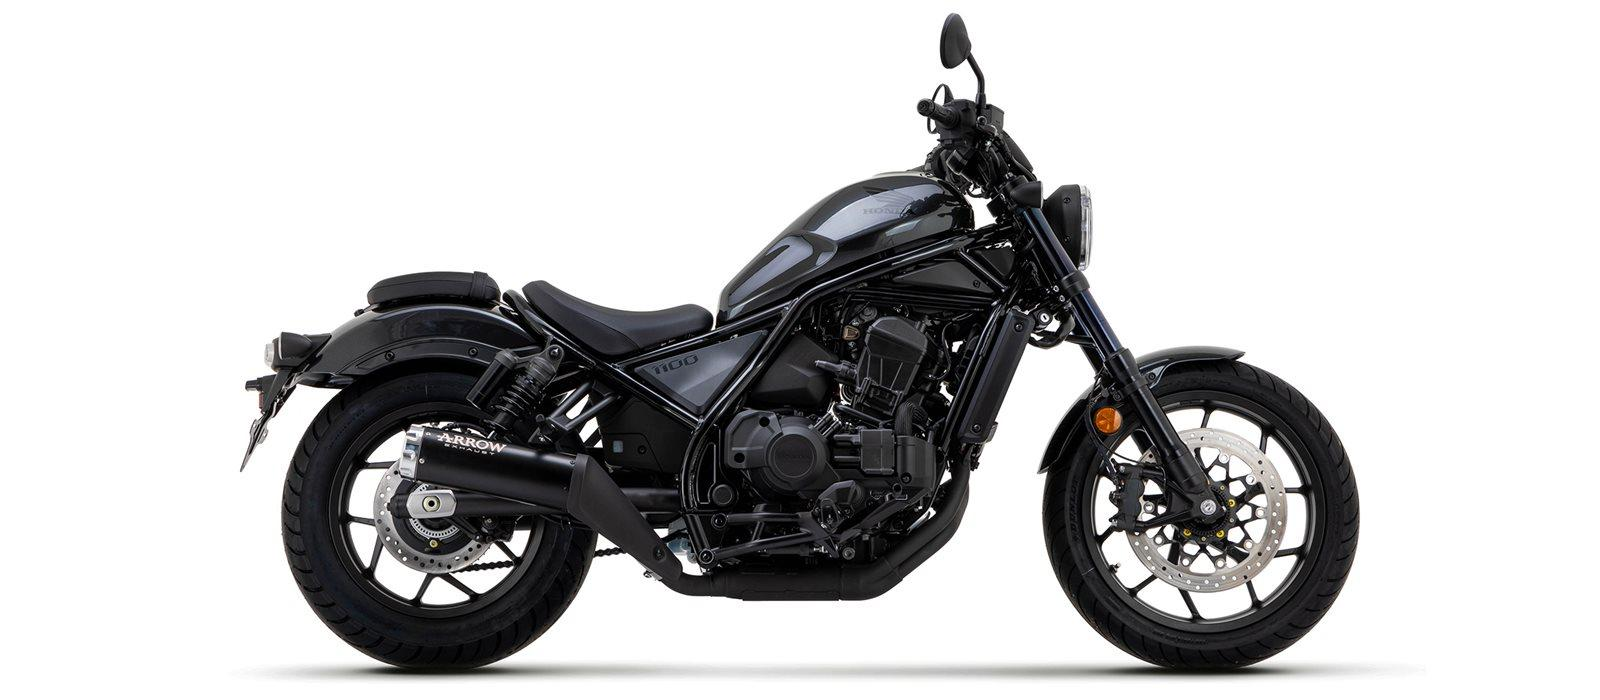engine-chasis: (672, 230, 1000, 574), (465, 335, 564, 441)
exhaust: (399, 423, 976, 601)
frontside: (938, 171, 1247, 532)
handlebar: (904, 13, 1040, 200)
motorbike: (243, 12, 1361, 669)
rearside: (238, 290, 800, 564), (387, 490, 568, 519)
seat: (521, 280, 714, 355), (366, 270, 501, 305)
tank: (714, 171, 976, 329)
wheel: (281, 358, 599, 671), (1042, 360, 1360, 671), (1084, 363, 1145, 480), (1063, 335, 1097, 348), (594, 547, 627, 558), (1034, 330, 1056, 338)
